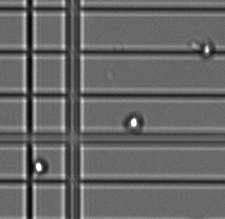Living Cell: (123, 111, 146, 133), (199, 38, 216, 59), (31, 158, 49, 176)
